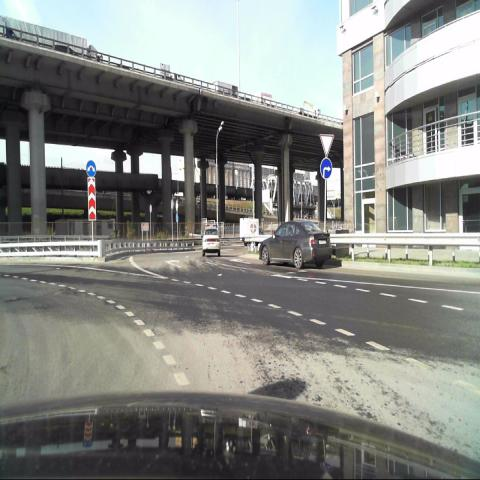2_4: (320, 133, 334, 157)
4_1_2: (319, 157, 333, 179)
